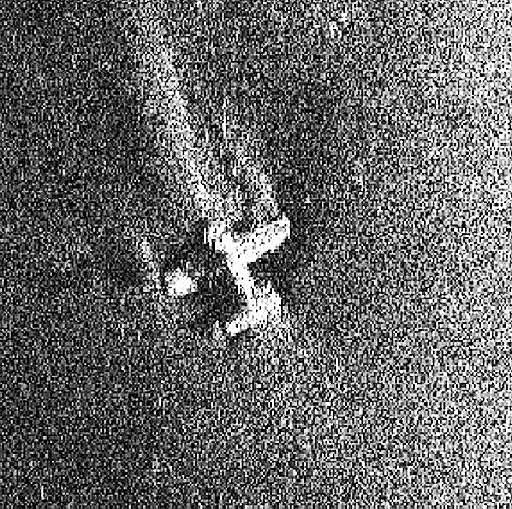plane: (164, 219, 292, 336)
